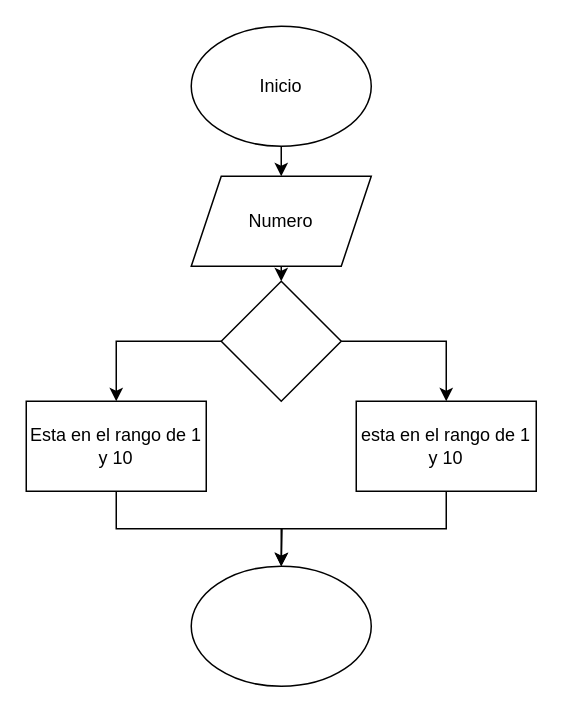
The diagram is 563 pixels wide and 713 high, and some of its shapes have lost their labels. The shapes that lost their labels are listed below. From the top down, each one's centre as x and y in pixels, then its label:
At (280,340): "Esta entre 1 y 10?".
At (280,625): "Fin".
